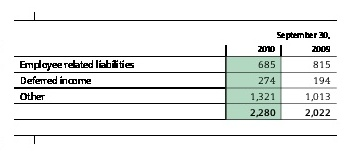table: (0, 0, 348, 159)
